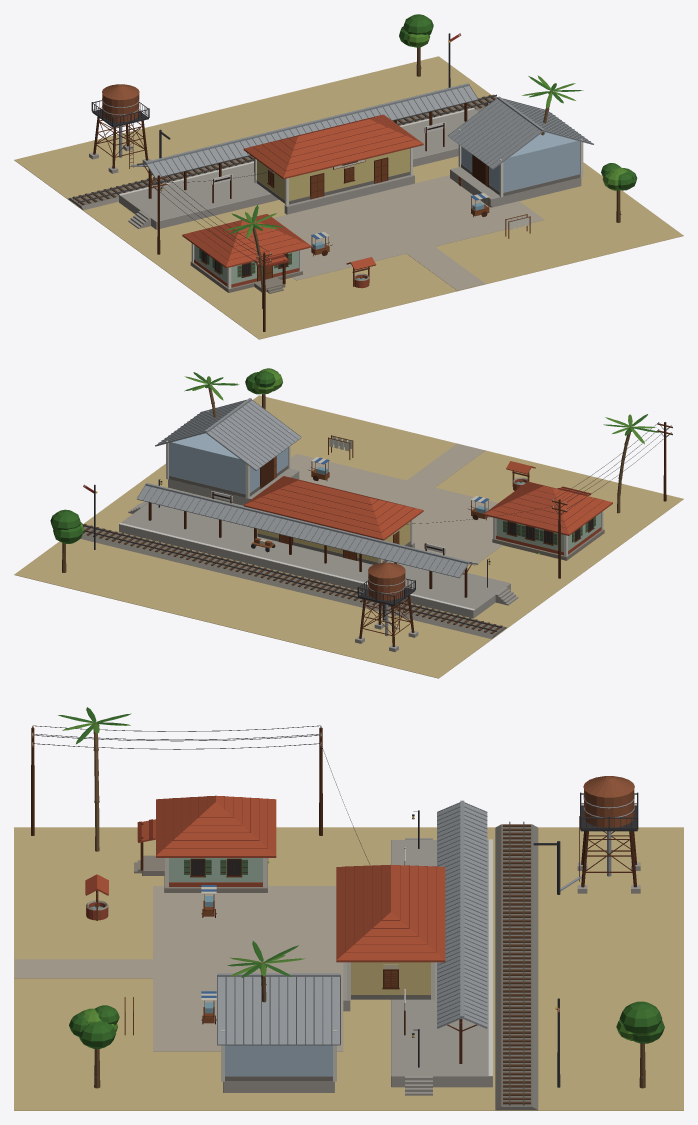
Rendered from station.glb.
3 views of the same model, one above another, from view 1: azimuth 30°, elevation 25°; view 2: azimuth 150°, elevation 25°; view 3: azimuth 270°, elevation 25° (orthographic). The views are drawn at different scales.
Visible parts, largest first — view 1: body; view 2: body; view 3: body.
Part boxes in pixels (bbox=[...]): body: bbox=[14, 14, 683, 339]; body: bbox=[14, 368, 683, 678]; body: bbox=[14, 707, 683, 1110].
Bounding box in the file's own units: 48.26 × 10.69 × 47.9.
